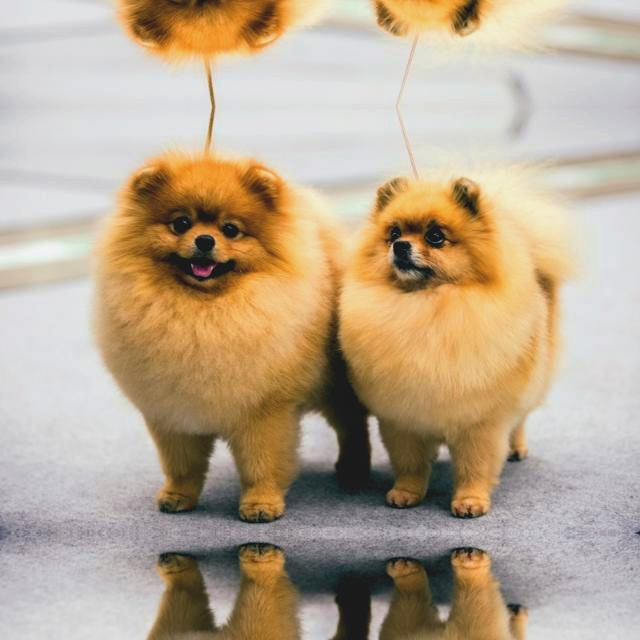dog: (100, 134, 296, 340), (343, 154, 542, 319), (100, 0, 296, 78), (343, 0, 542, 58)
